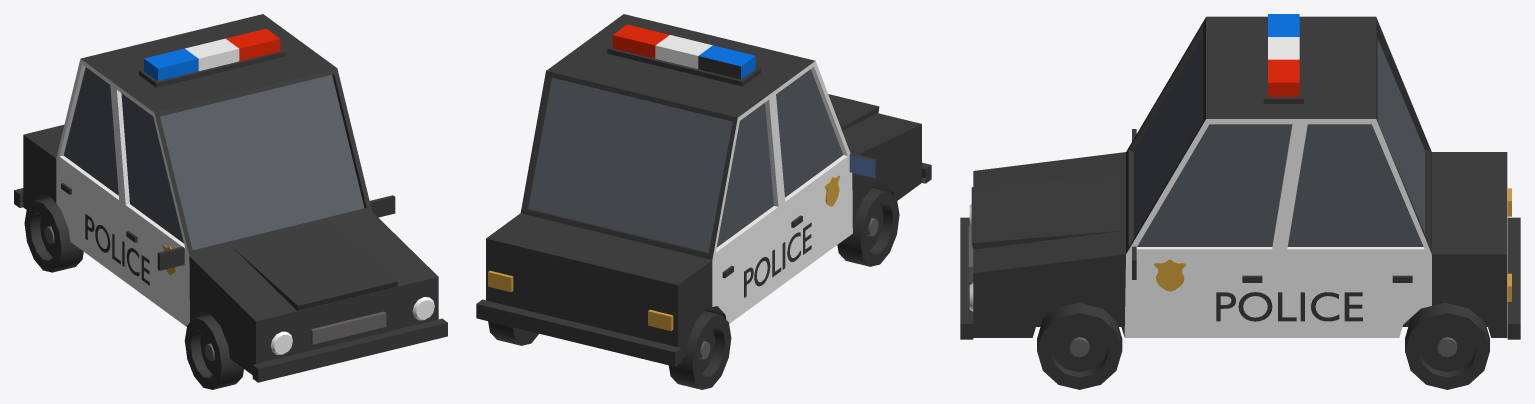
Rendered from Police Car_1.fbx.
The picture shows the model from 3 angles, left to right: view 1: azimuth 30°, elevation 25°; view 2: azimuth 150°, elevation 25°; view 3: azimuth 270°, elevation 25°; orthographic projection. The views are drawn at different scales.
Parts seen in each view (by area): view 1: Police Car_1; view 2: Police Car_1; view 3: Police Car_1.
Boxes of the visible parts, x1,y1,x2,y2 form: Police Car_1: (14, 14, 447, 389); Police Car_1: (476, 14, 931, 389); Police Car_1: (960, 14, 1520, 389).
Size of the model in its own units: 232 by 235 by 417.
